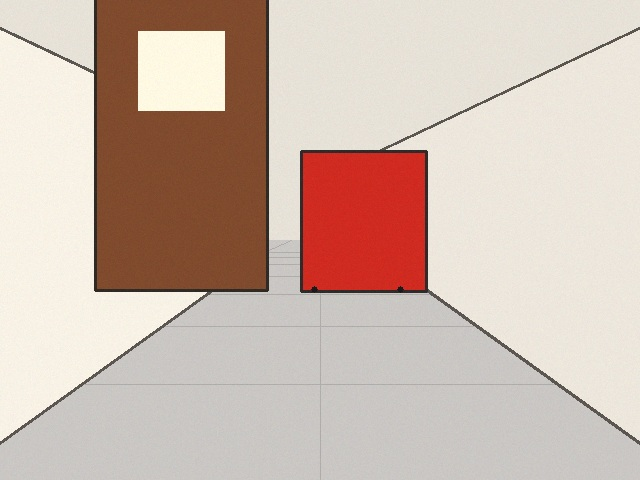cart: (301, 151, 426, 291)
directional_sign: (322, 155, 406, 198)
door: (95, 0, 267, 290)
